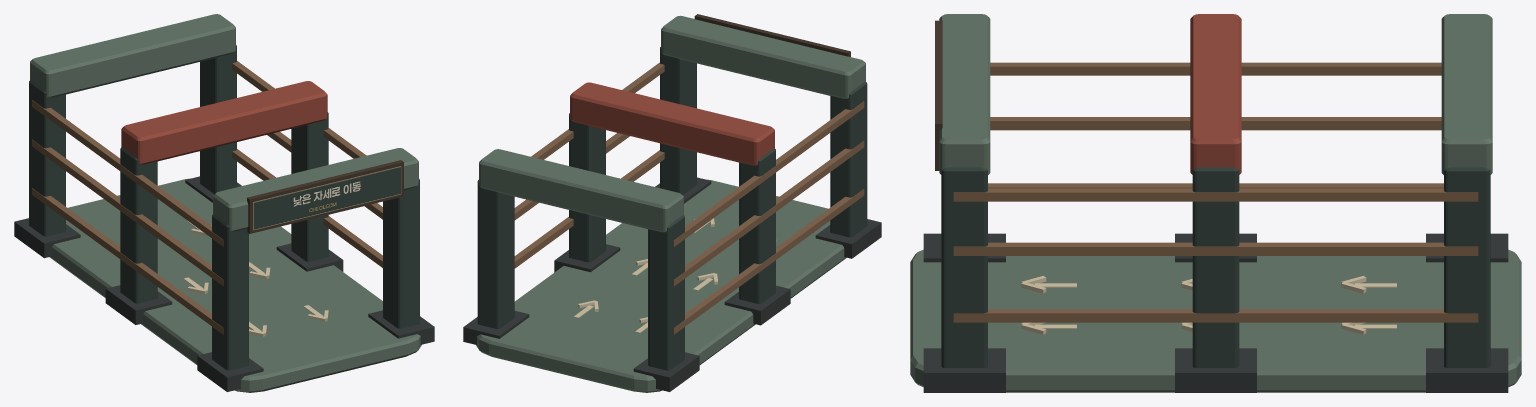
The model's file is 09_Low_Crawl_Course.fbx.
The picture shows the model from 3 angles, left to right: view 1: azimuth 30°, elevation 25°; view 2: azimuth 150°, elevation 25°; view 3: azimuth 270°, elevation 25°; orthographic projection. The views are drawn at different scales.
Visible parts, largest first — view 1: Structure.008; view 2: Structure.008; view 3: Structure.008.
Boxes of the visible parts, box(x1,y1,x2,y2) form: Structure.008: box(14, 14, 434, 392); Structure.008: box(463, 14, 881, 392); Structure.008: box(910, 14, 1521, 392).
Bounding box in the file's own units: 148 × 128 × 275.
1 material, 1 textured.
